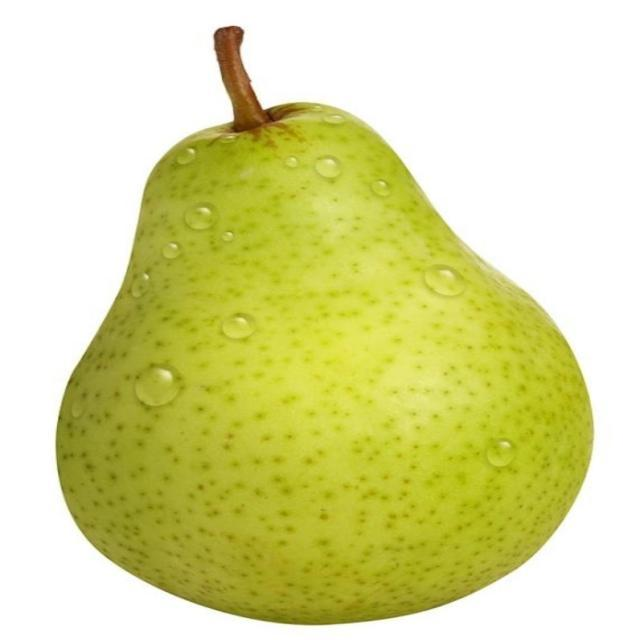Pear Ripe: (57, 26, 592, 623)
